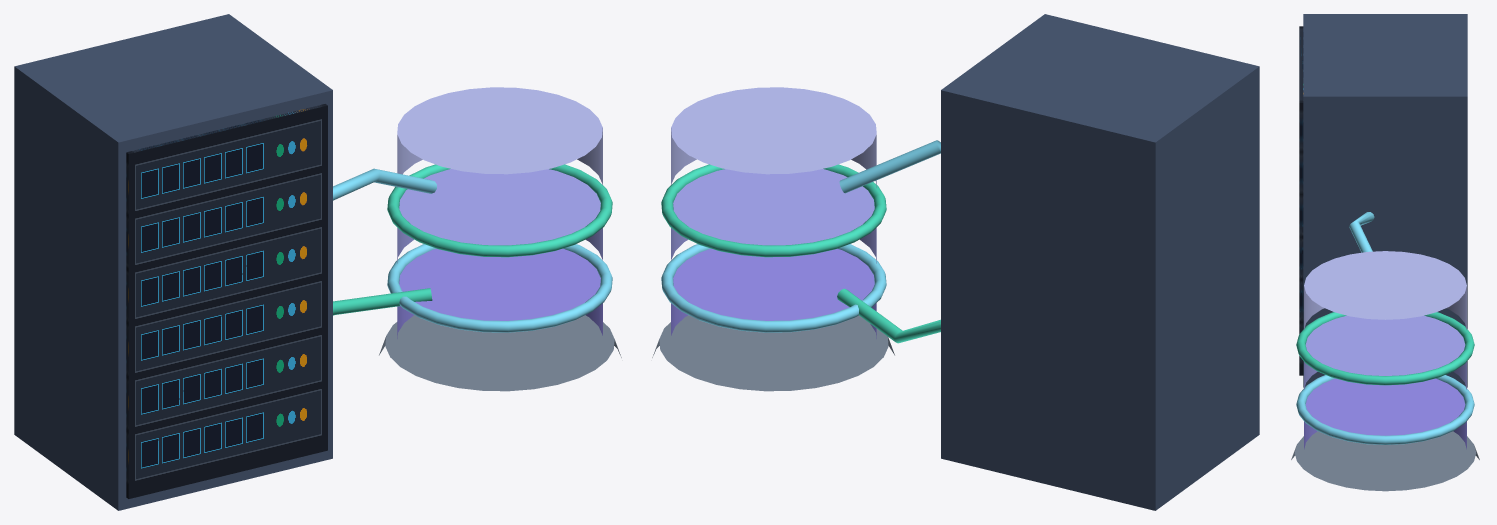
File: it-server.glb
3 views of the same model, side by side, from view 1: azimuth 30°, elevation 25°; view 2: azimuth 150°, elevation 25°; view 3: azimuth 270°, elevation 25° (orthographic). The views are drawn at different scales.
Parts seen in each view (by area): view 1: Rack_Front_Panel, Rack_Cabinet, DB_Tier_3, DB_Base, DB_Tier_2, DB_Tier_1, DB_Ring_2, DB_Ring_1, Fiber_Pipe_1, Fiber_Pipe_2; view 2: Rack_Cabinet, DB_Tier_3, DB_Tier_2, DB_Base, DB_Tier_1, DB_Ring_2, DB_Ring_1, Fiber_Pipe_1, Fiber_Pipe_2; view 3: Rack_Cabinet, DB_Tier_3, DB_Tier_2, DB_Base, DB_Tier_1, DB_Ring_2, DB_Ring_1, Rack_Front_Panel, Fiber_Pipe_1.
Part boxes in pixels (bbox=[...]): Rack_Front_Panel: bbox=[126, 104, 327, 498]; Rack_Cabinet: bbox=[14, 14, 332, 510]; DB_Tier_3: bbox=[397, 87, 602, 187]; DB_Base: bbox=[379, 315, 621, 391]; DB_Tier_2: bbox=[397, 169, 602, 263]; DB_Tier_1: bbox=[397, 248, 602, 338]; DB_Ring_2: bbox=[387, 164, 612, 257]; DB_Ring_1: bbox=[387, 244, 612, 332]; Fiber_Pipe_1: bbox=[333, 168, 436, 200]; Fiber_Pipe_2: bbox=[333, 288, 432, 315]; Rack_Cabinet: bbox=[941, 14, 1259, 510]; DB_Tier_3: bbox=[671, 87, 876, 187]; DB_Tier_2: bbox=[671, 169, 876, 263]; DB_Base: bbox=[652, 315, 894, 391]; DB_Tier_1: bbox=[671, 248, 876, 338]; DB_Ring_2: bbox=[661, 164, 886, 257]; DB_Ring_1: bbox=[661, 244, 886, 332]; Fiber_Pipe_1: bbox=[839, 140, 940, 193]; Fiber_Pipe_2: bbox=[837, 288, 940, 343]; Rack_Cabinet: bbox=[1303, 14, 1467, 387]; DB_Tier_3: bbox=[1304, 251, 1466, 329]; DB_Tier_2: bbox=[1304, 315, 1466, 389]; DB_Base: bbox=[1291, 431, 1479, 491]; DB_Tier_1: bbox=[1304, 378, 1466, 449]; DB_Ring_2: bbox=[1296, 312, 1474, 385]; DB_Ring_1: bbox=[1296, 375, 1474, 444]; Rack_Front_Panel: bbox=[1299, 26, 1303, 375]; Fiber_Pipe_1: bbox=[1349, 212, 1374, 252].
Size of the model in its own units: 3.15 by 2.05 by 1.24.
10 materials, 1 textured.
